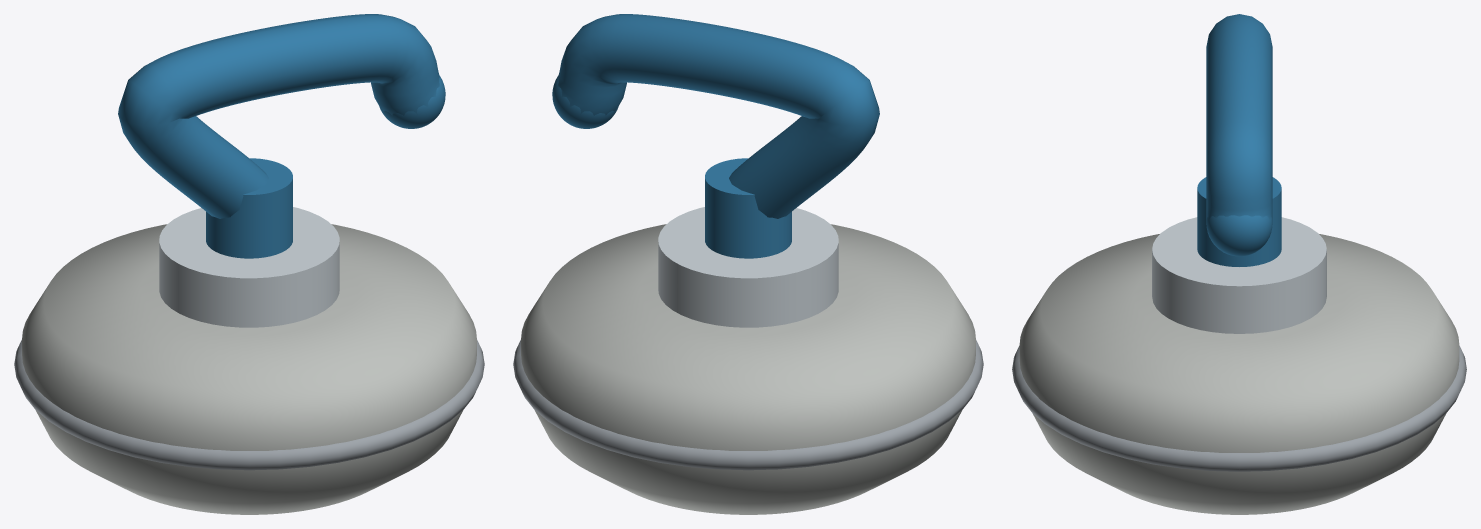
Rendered from curling-club-and-ice-maintenance-granite-curling-stone-8702729b__31264.glb.
3 renders of one model, left to right at view 1: azimuth 30°, elevation 25°; view 2: azimuth 150°, elevation 25°; view 3: azimuth 270°, elevation 25°, orthographic. The views are drawn at different scales.
Parts seen in each view (by area): view 1: granite-curling-stone; view 2: granite-curling-stone; view 3: granite-curling-stone.
Boxes of the visible parts, left/top/right/bottom form: granite-curling-stone: left=14, top=14, right=484, bottom=514; granite-curling-stone: left=513, top=14, right=983, bottom=514; granite-curling-stone: left=1012, top=14, right=1466, bottom=514.
Bounding box in the file's own units: 0.302 × 0.3054 × 0.302.
